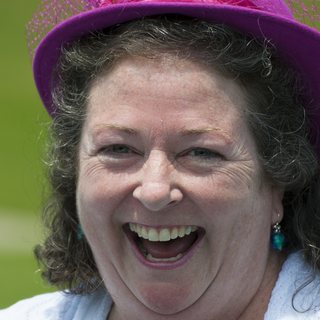eye: (174, 142, 227, 166), (96, 140, 143, 164)
